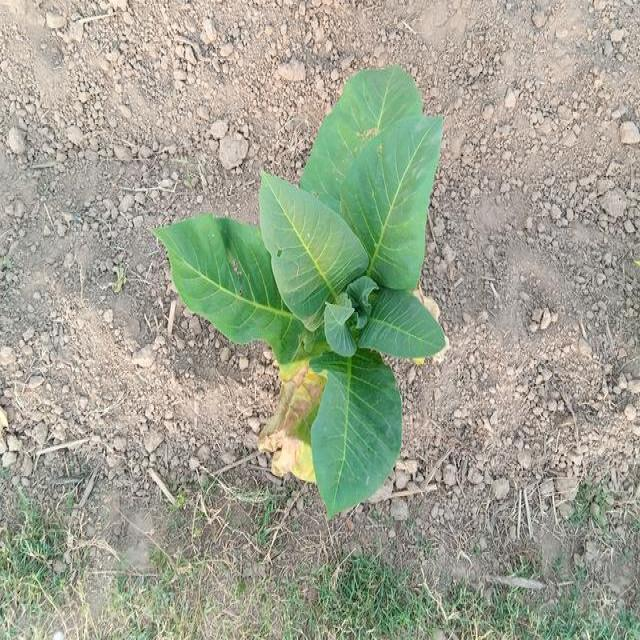crop: (168, 56, 450, 493)
